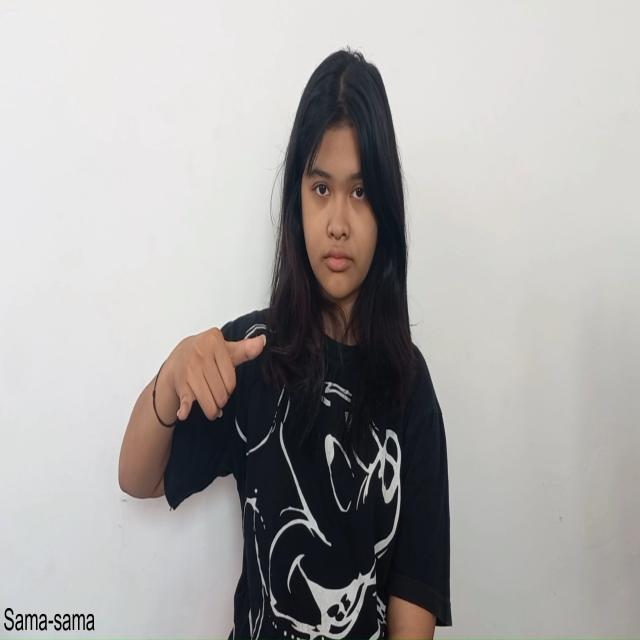Sama-sama -BISINDO-: (166, 320, 267, 427)
